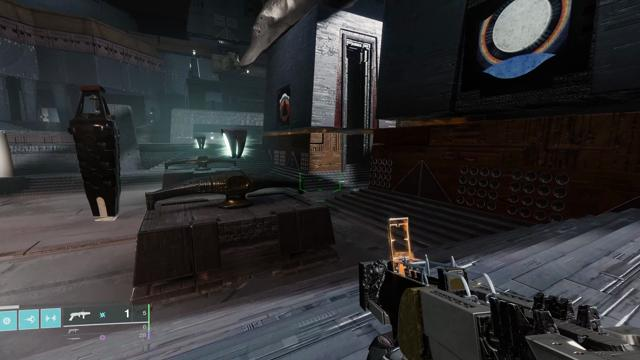pyramid: (279, 94, 290, 121)
traveler: (475, 0, 573, 79)
